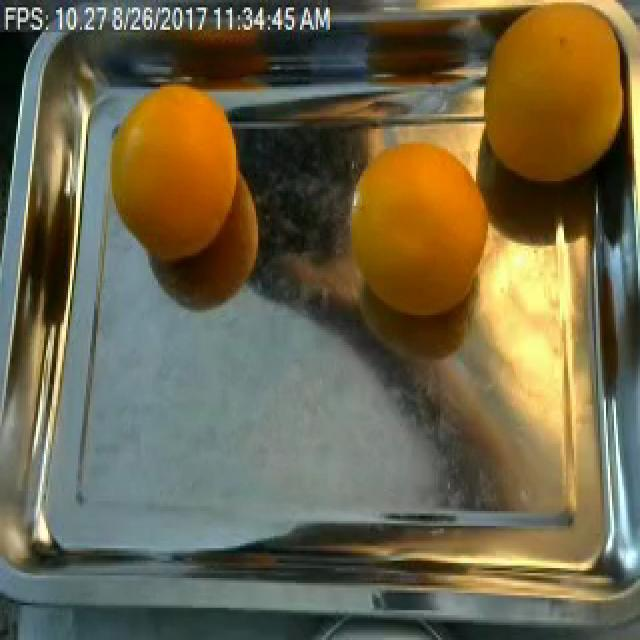Fruit: (94, 64, 268, 288)
